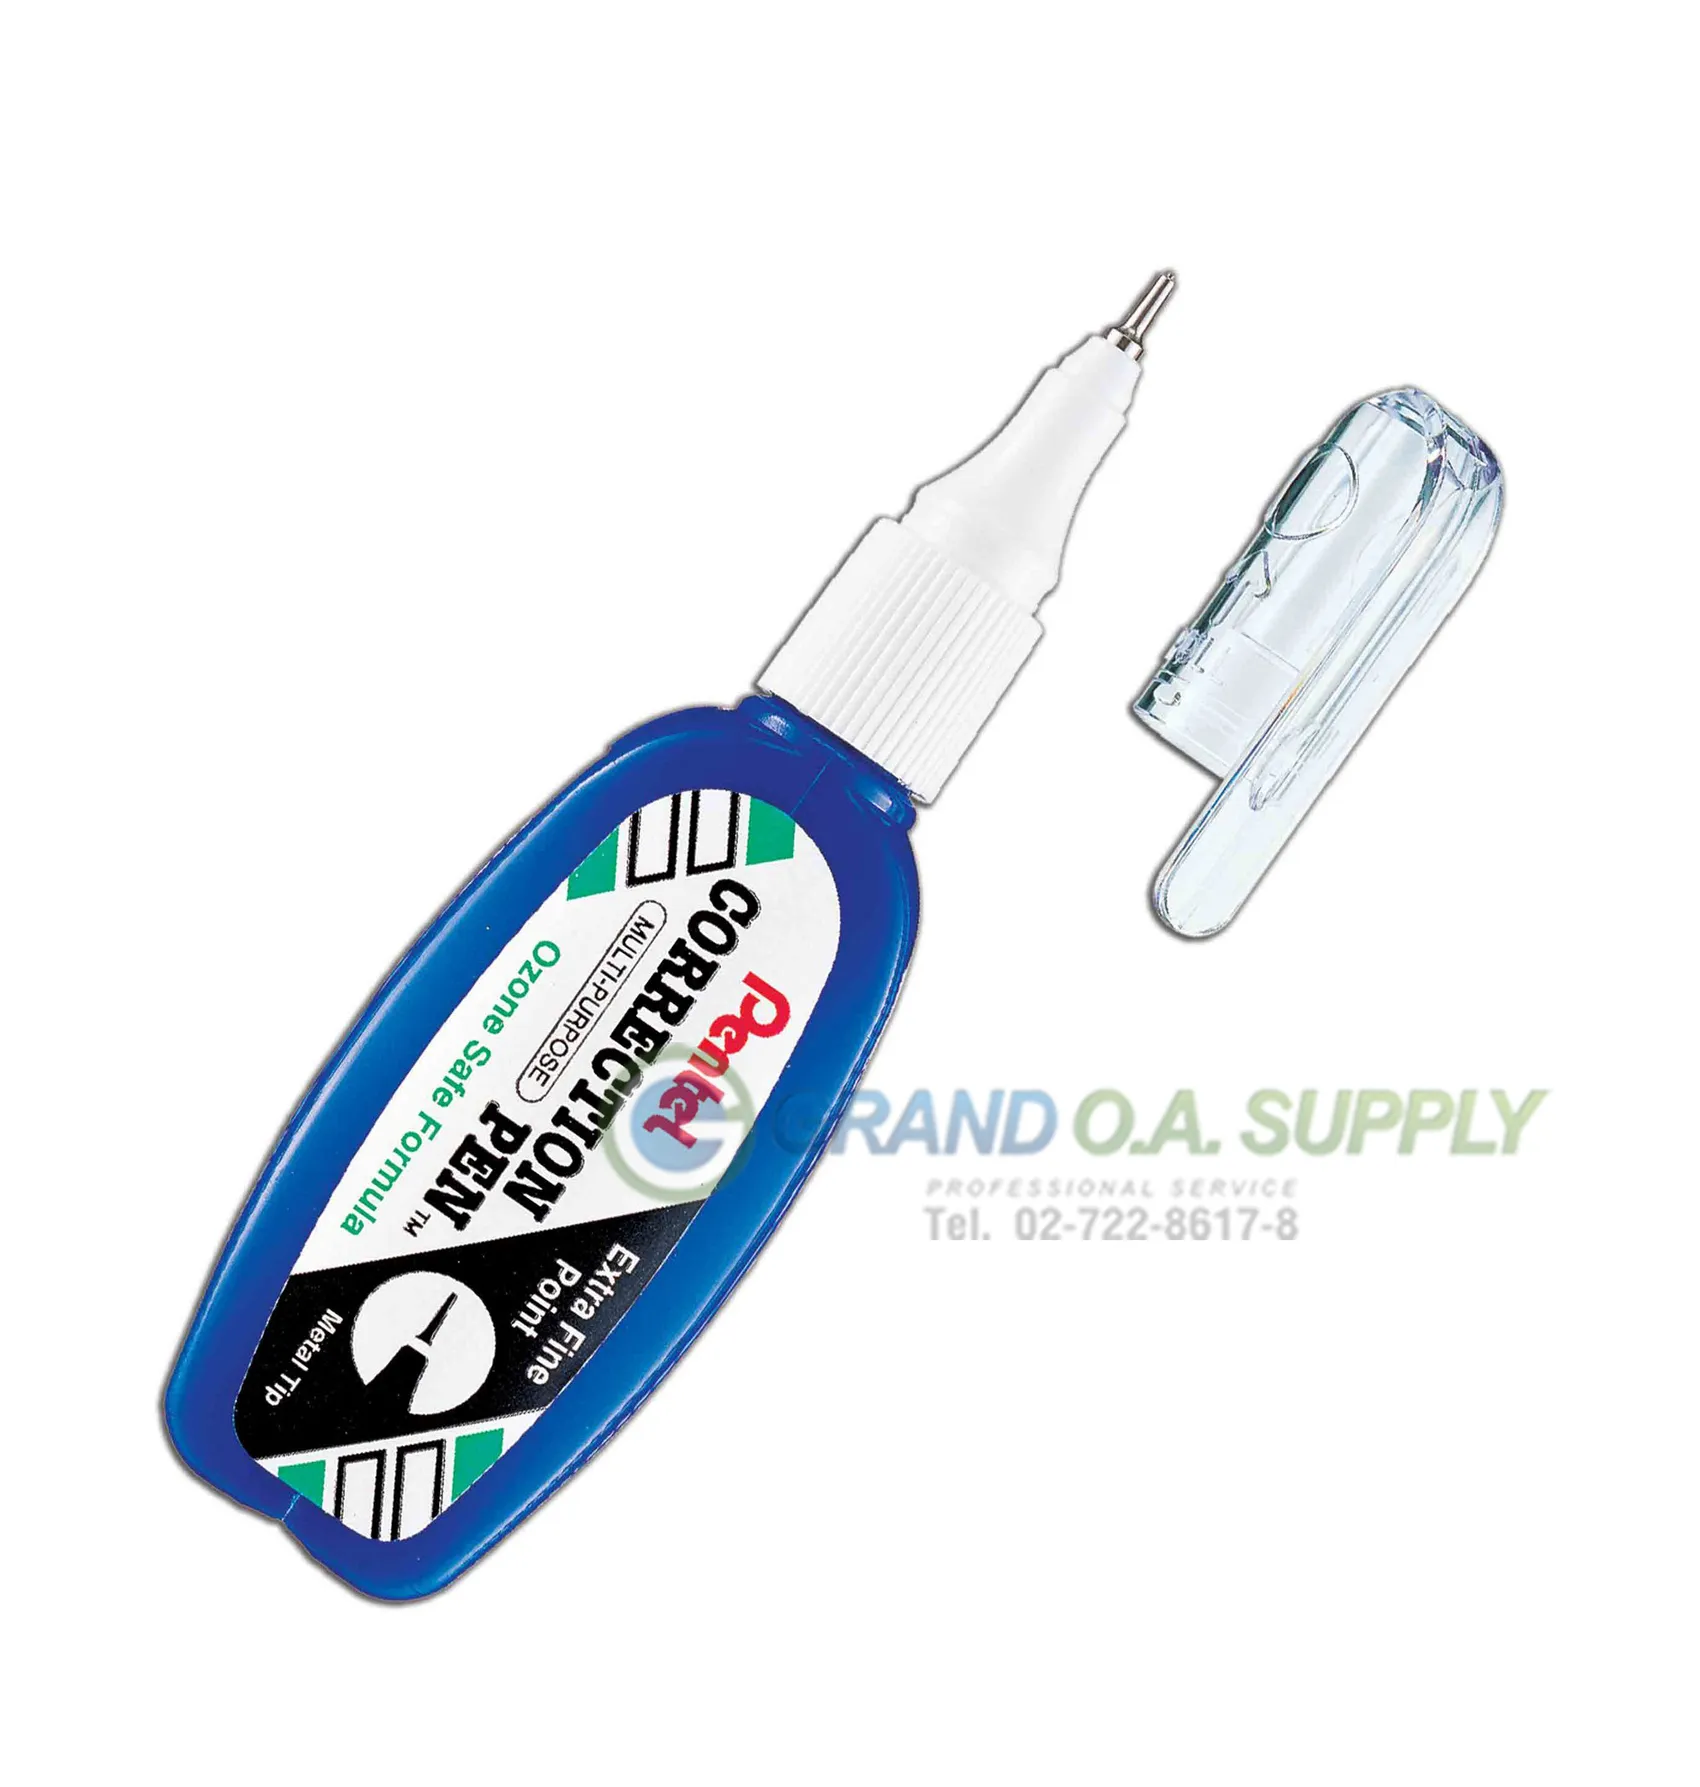Correction_fluid: (147, 246, 1192, 1619)
